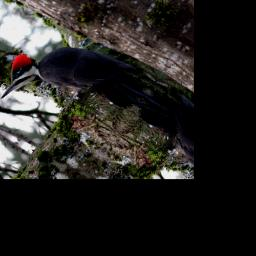Woodpecker: (0, 12, 157, 156)
